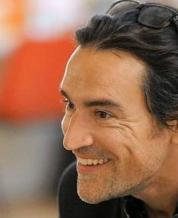face: (57, 88, 128, 175)
